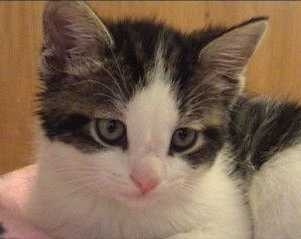Cat: (29, 2, 267, 238)
